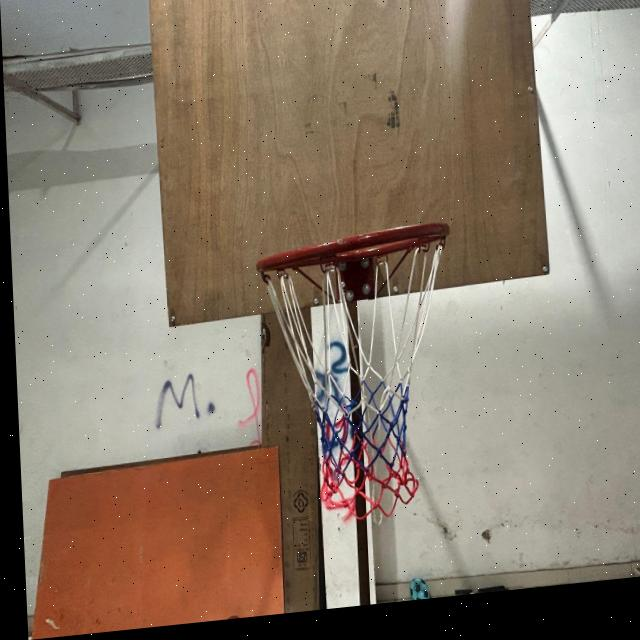hoop: (244, 211, 476, 543)
